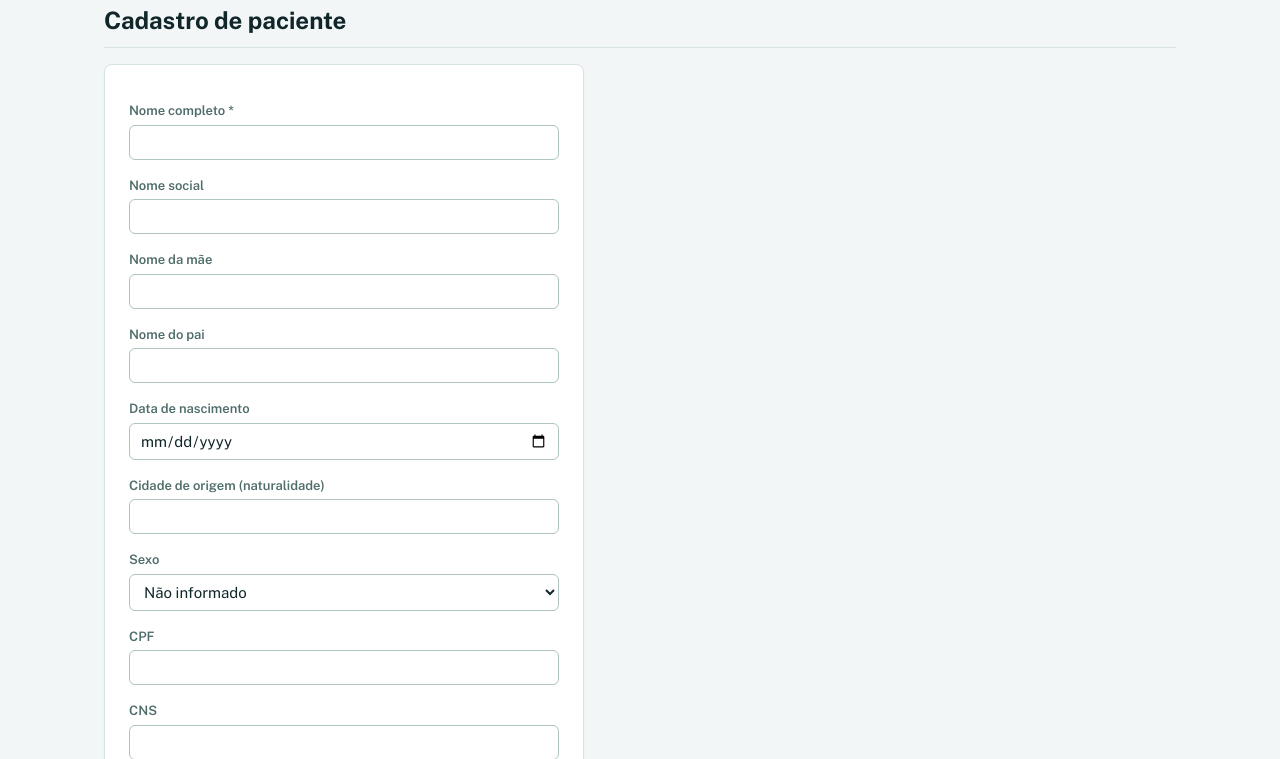
Scenario: PatientRegisterPage › 6. exibe erro de CNS inválido retornado pela API
Type "Maria Souza" into the field labelled "Nome completo *" at (344, 142), box [129,124,559,160]
(page scrolled)
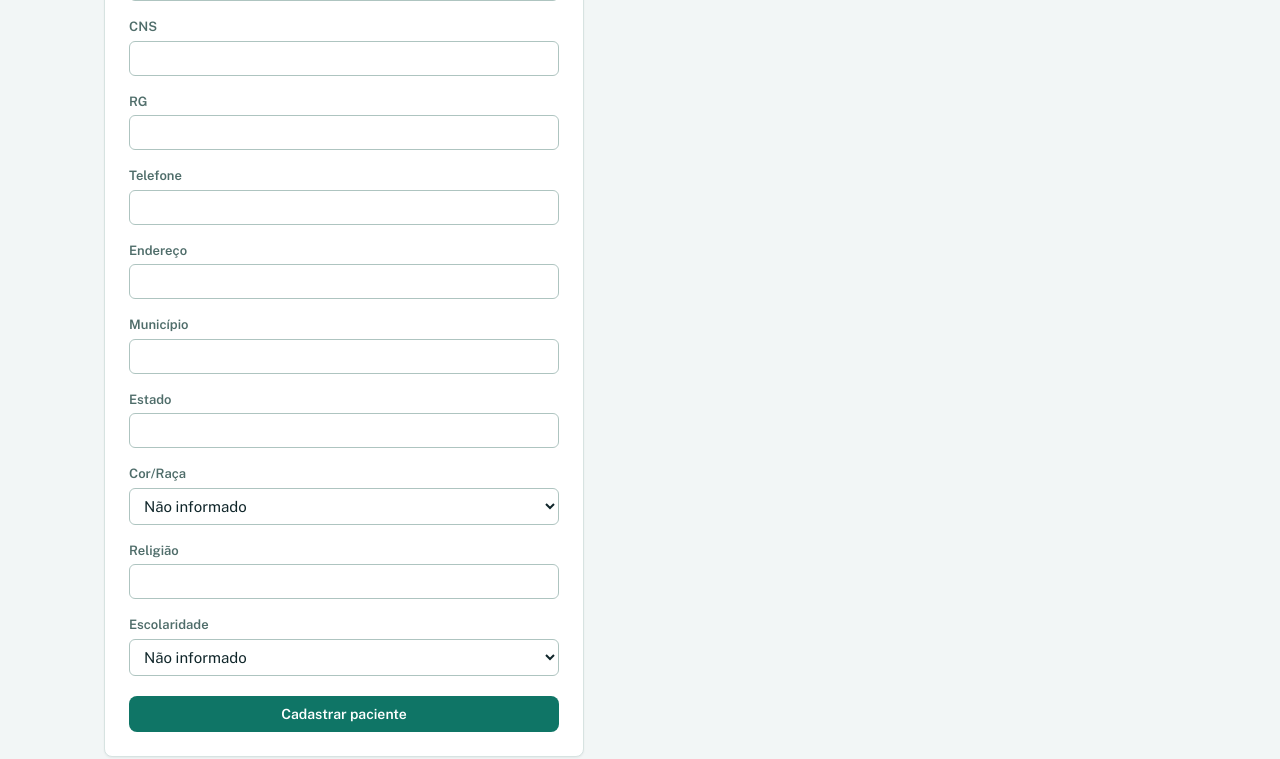
Click the button "Cadastrar paciente" at (344, 714), box [129,696,559,732]
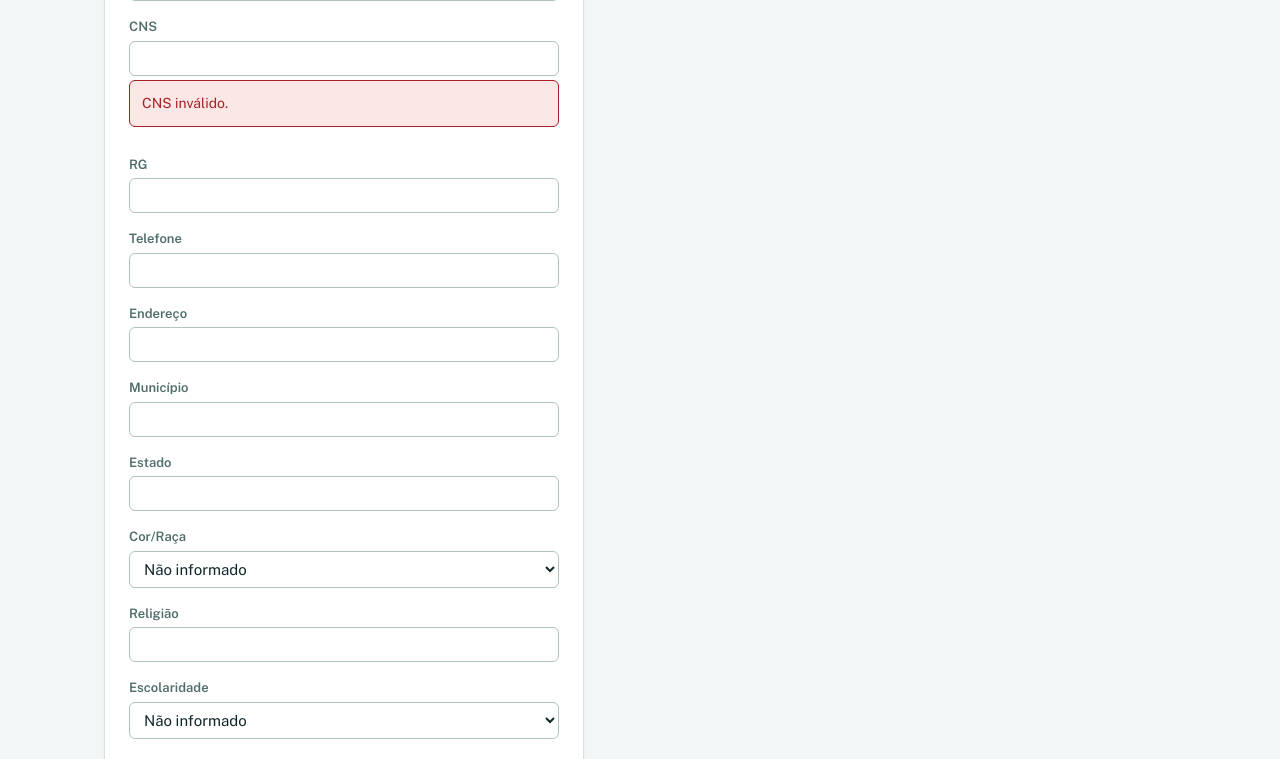
Result: the text "CNS inválido." is shown at [129,80,559,126]
